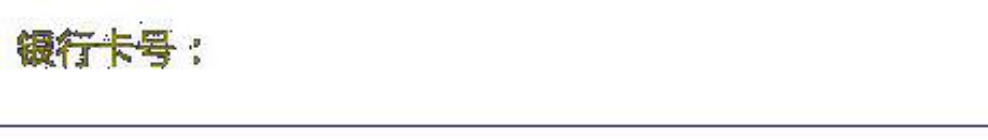EditText: (1, 1, 987, 139)
